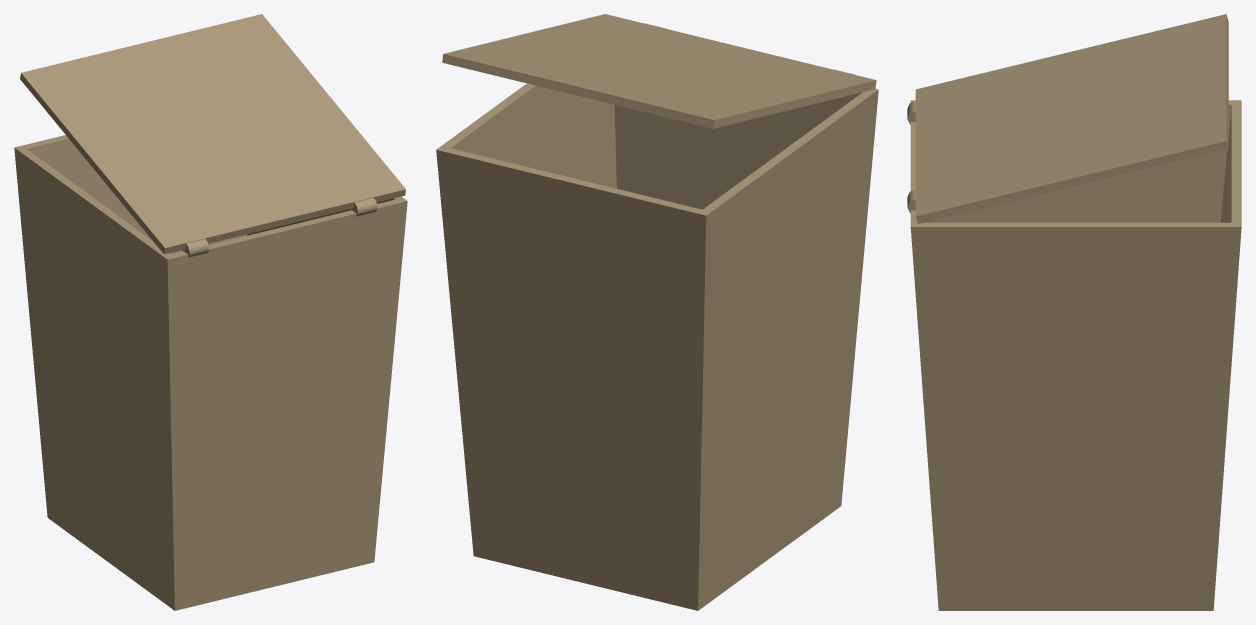
File: SM_Trash_01.FBX
3 renders of one model, left to right at view 1: azimuth 30°, elevation 25°; view 2: azimuth 150°, elevation 25°; view 3: azimuth 270°, elevation 25°, orthographic. The views are drawn at different scales.
Parts seen in each view (by area): view 1: SM_Trash_01; view 2: SM_Trash_01; view 3: SM_Trash_01.
Boxes of the visible parts, x1,y1,x2,y2 form: SM_Trash_01: [14, 14, 407, 610]; SM_Trash_01: [436, 14, 878, 610]; SM_Trash_01: [907, 14, 1241, 610].
Size of the model in its own units: 30.17 by 33.56 by 53.28.
